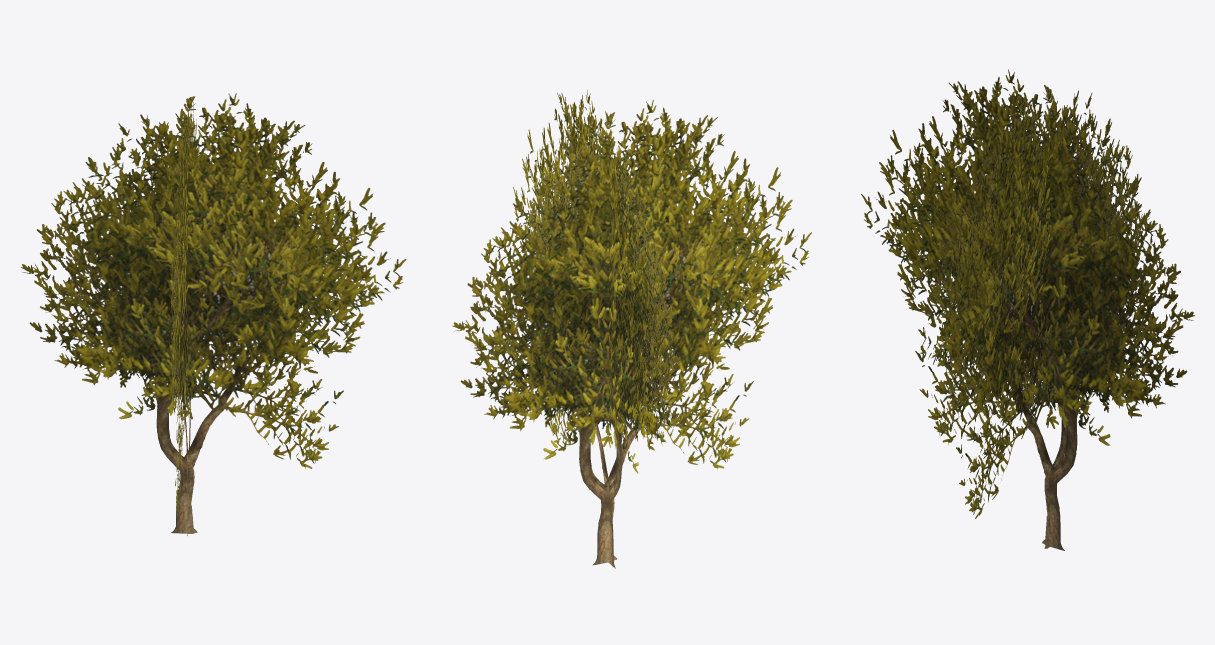
The model's file is Tree.FBX.
3 renders of one model, left to right at view 1: azimuth 30°, elevation 25°; view 2: azimuth 150°, elevation 25°; view 3: azimuth 270°, elevation 25°, orthographic. The views are drawn at different scales.
Parts seen in each view (by area): view 1: Tree; view 2: Tree; view 3: Tree.
Boxes of the visible parts, <box> form: Tree: <box>21,93,406,535</box>; Tree: <box>452,90,811,568</box>; Tree: <box>861,69,1194,550</box>.
Size of the model in its own units: 558 by 828 by 558.
Materials: 1 (1 with a texture image).
